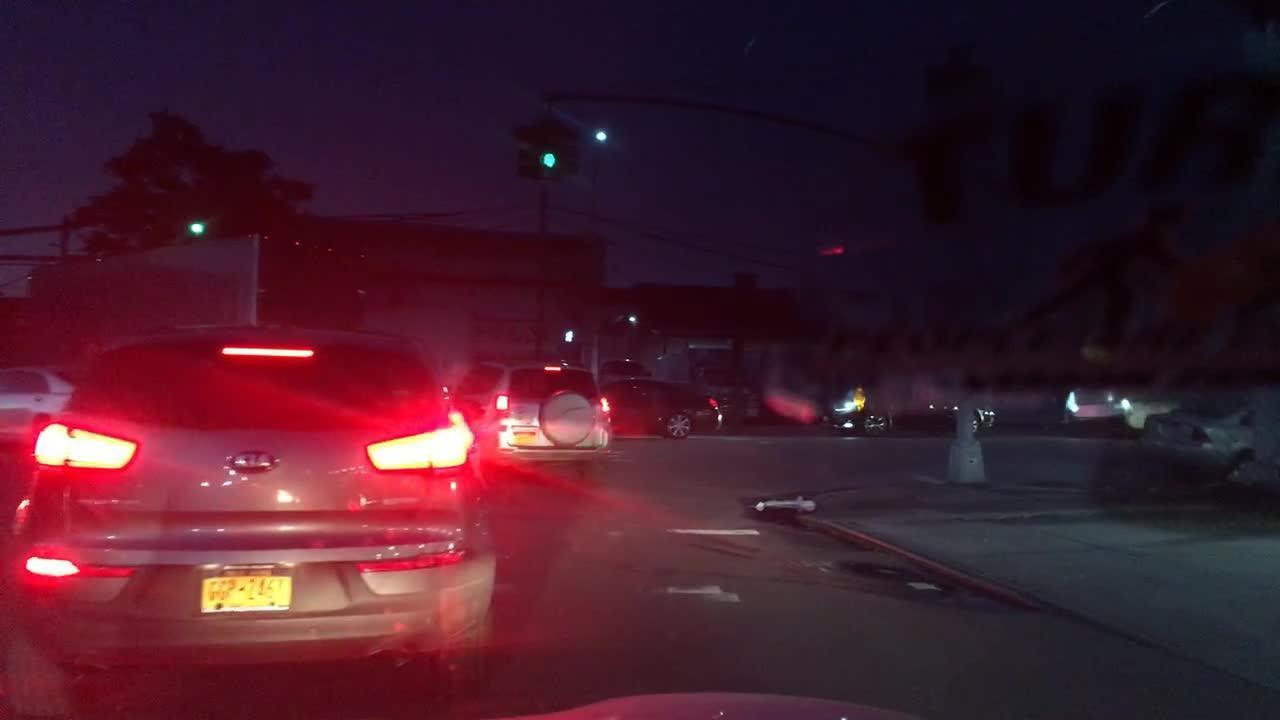kia: (229, 447, 276, 471)
